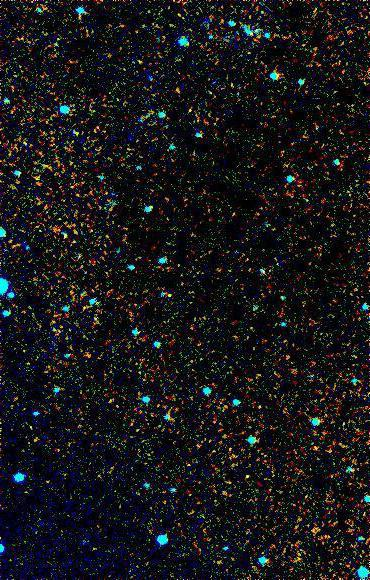star: (29, 455, 59, 485)
